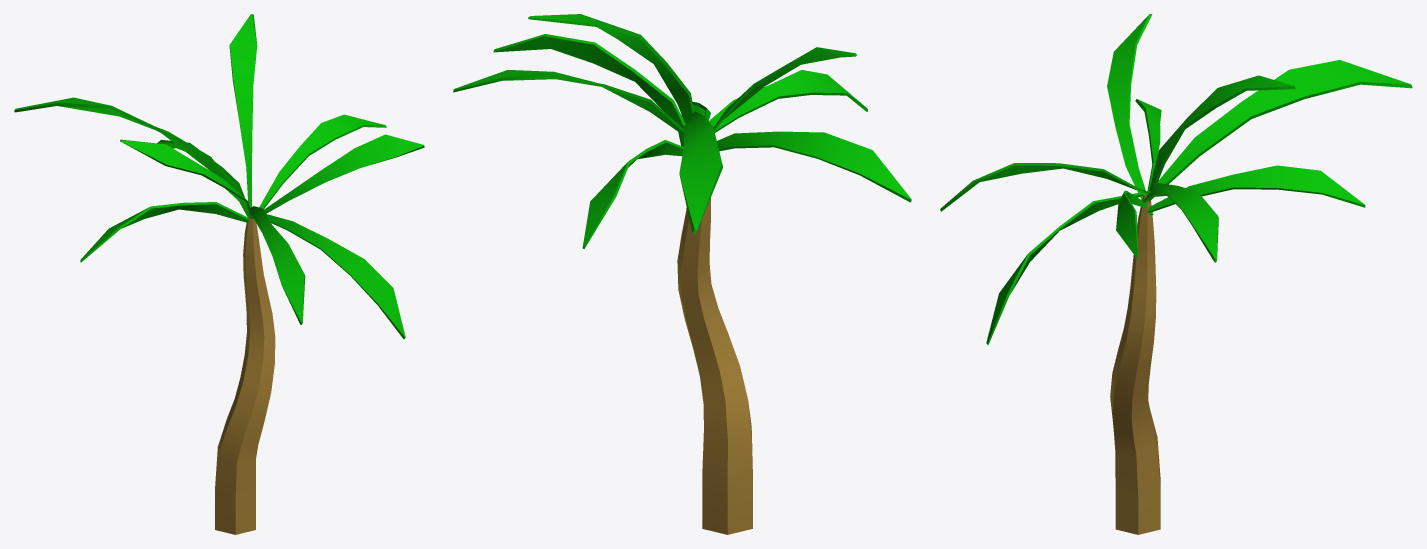
The model's file is HawaiiTreeLow.fbx.
3 renders of one model, left to right at view 1: azimuth 30°, elevation 25°; view 2: azimuth 150°, elevation 25°; view 3: azimuth 270°, elevation 25°, orthographic. The views are drawn at different scales.
Visible parts, largest first — view 1: Root, pCube8, pCube6, pCube5, pCube7, pCube9, pCube4, pCube2, pCube1; view 2: Root, pCube1, pCube4, pCube5, pCube7, pCube6, pCube9, pCube3, pCube2; view 3: Root, pCube4, pCube3, pCube2, pCube6, pCube9, pCube8, pCube7, pCube5, pCube1.
Boxes of the visible parts, x1,y1,x2,y2 form: Root: (215, 217, 275, 534); pCube8: (266, 214, 405, 339); pCube6: (229, 14, 257, 207); pCube5: (263, 134, 424, 213); pCube7: (248, 206, 305, 324); pCube9: (259, 114, 386, 209); pCube4: (14, 97, 237, 191); pCube2: (120, 139, 252, 218); pCube1: (80, 202, 248, 262); Root: (677, 197, 752, 534); pCube1: (717, 131, 911, 202); pCube4: (679, 111, 722, 234); pCube5: (493, 34, 685, 137); pCube7: (708, 70, 867, 132); pCube6: (528, 14, 694, 123); pCube9: (453, 70, 684, 135); pCube3: (582, 140, 683, 248); pCube2: (713, 47, 856, 130); Root: (1110, 194, 1160, 534); pCube4: (1148, 60, 1412, 201); pCube3: (1145, 165, 1365, 212); pCube2: (1107, 14, 1153, 214); pCube6: (1149, 75, 1296, 202); pCube9: (1143, 183, 1218, 262); pCube8: (986, 192, 1143, 344); pCube7: (940, 163, 1149, 211); pCube5: (1116, 190, 1147, 257); pCube1: (1135, 99, 1161, 191).
Size of the model in its own units: 8.33 by 10.26 by 9.06.
